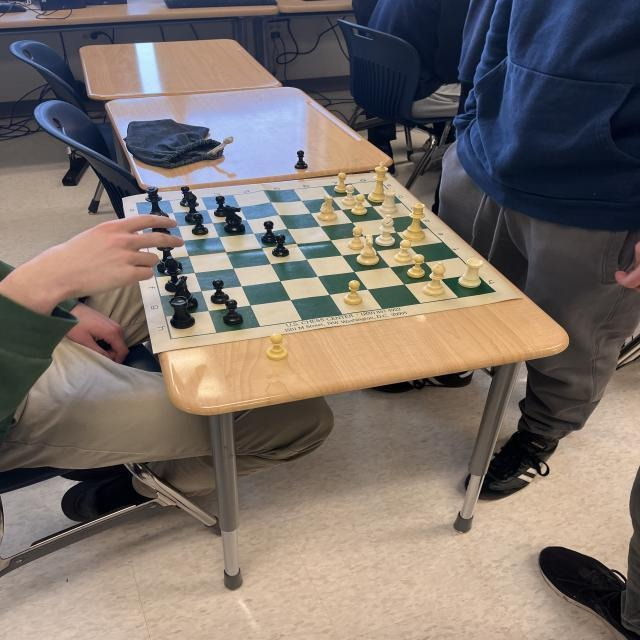black-bishop: (163, 256, 185, 292), (184, 191, 204, 222)
black-king: (144, 185, 172, 223)
black-knight: (173, 274, 199, 309), (223, 206, 246, 234)
black-pawn: (223, 299, 244, 326), (190, 212, 209, 235), (271, 234, 289, 258), (211, 280, 229, 304), (259, 220, 276, 244), (212, 195, 227, 217), (294, 150, 309, 170), (178, 186, 193, 206)
black-rook: (169, 295, 195, 328)
white-bishop: (422, 262, 446, 296), (376, 214, 396, 246)
white-king: (368, 162, 389, 202)
white-knight: (356, 234, 379, 266), (317, 193, 338, 221)
white-pawn: (265, 333, 288, 361), (343, 280, 363, 306), (407, 253, 425, 278), (394, 239, 412, 262), (347, 226, 364, 249), (340, 184, 357, 206), (351, 194, 368, 214), (335, 172, 347, 192)
white-queen: (402, 203, 425, 241)
white-rook: (459, 258, 485, 288), (379, 190, 397, 214)
